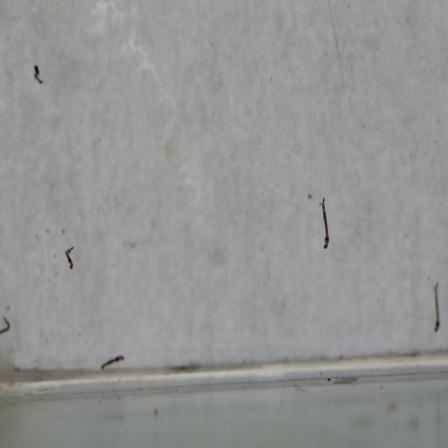Jentik-Nyamuk: (317, 192, 334, 254), (428, 282, 443, 334), (98, 351, 128, 371), (29, 59, 47, 88), (61, 244, 77, 272)
